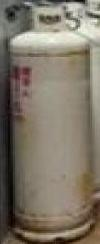cylinder: (1, 1, 100, 244)
